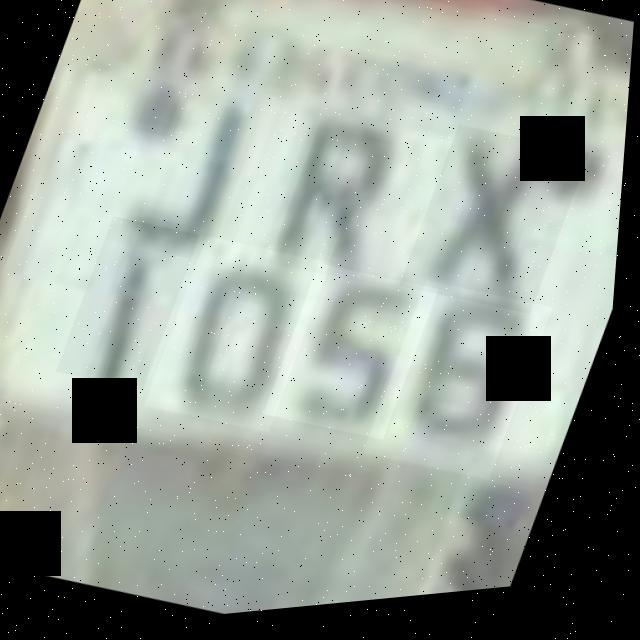0: (148, 231, 337, 447)
1: (59, 211, 205, 402)
5: (268, 260, 445, 457)
6: (368, 279, 560, 500)
J: (107, 53, 295, 280)
R: (249, 85, 441, 303)
X: (401, 124, 595, 335)
